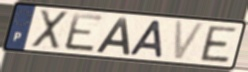A: (127, 18, 165, 59), (93, 16, 131, 56)
E: (63, 12, 106, 55), (199, 25, 239, 65)
V: (172, 19, 208, 62)
X: (30, 8, 70, 50)
